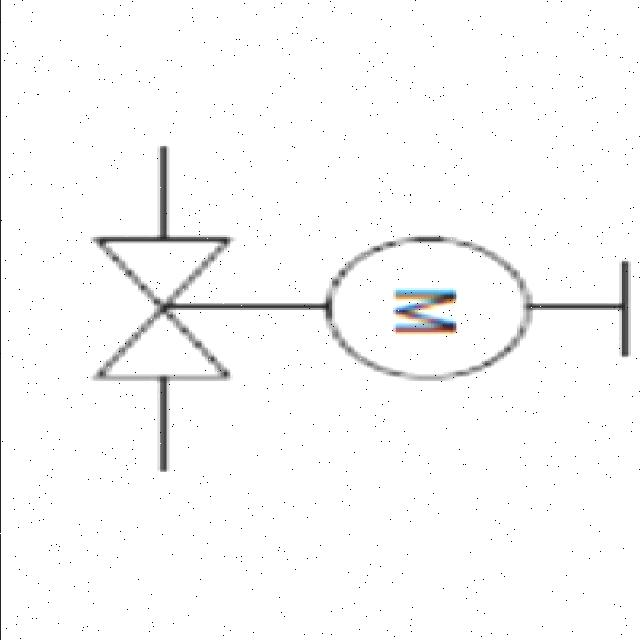Motor Operated Gate Valve: (90, 204, 522, 447)
